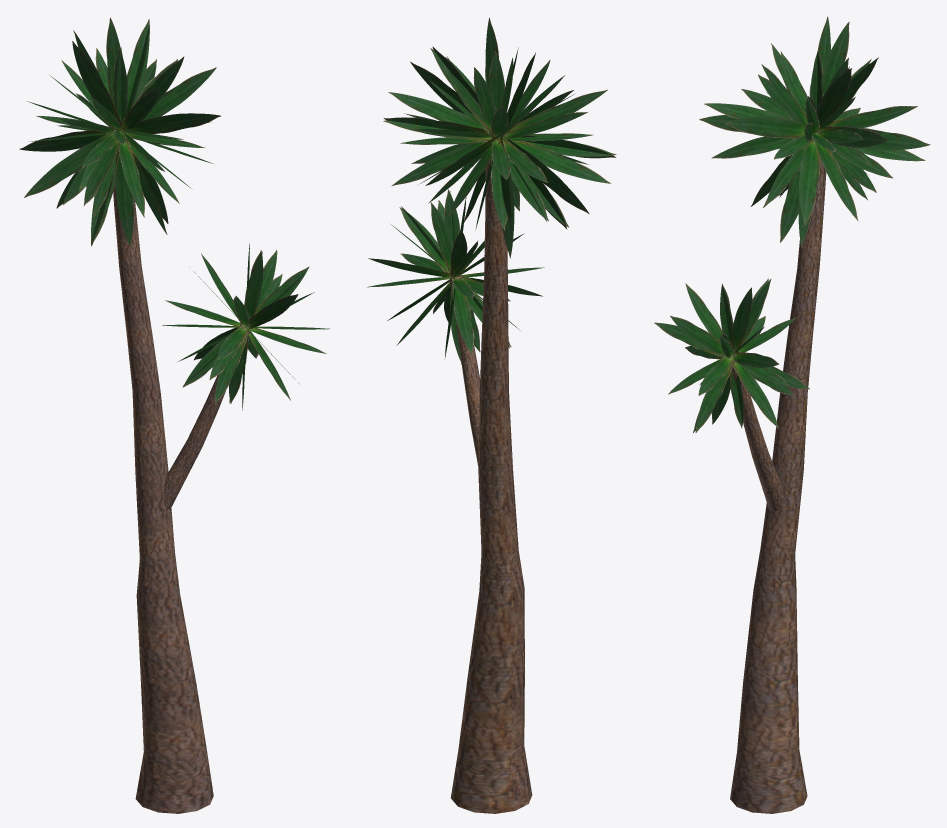
File: tree-06.fbx
The picture shows the model from 3 angles, left to right: view 1: azimuth 30°, elevation 25°; view 2: azimuth 150°, elevation 25°; view 3: azimuth 270°, elevation 25°; orthographic projection. The views are drawn at different scales.
Visible parts, largest first — view 1: Cylinder.003; view 2: Cylinder.003; view 3: Cylinder.003.
Part boxes in pixels (box(x1,y1,x2,y2)): Cylinder.003: box(19, 17, 329, 813); Cylinder.003: box(367, 17, 616, 813); Cylinder.003: box(654, 16, 930, 813).
Bounding box in the file's own units: 1.89 × 5.35 × 1.83.
